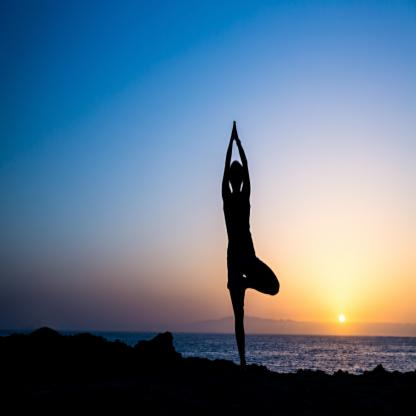tree: (217, 116, 283, 375)
